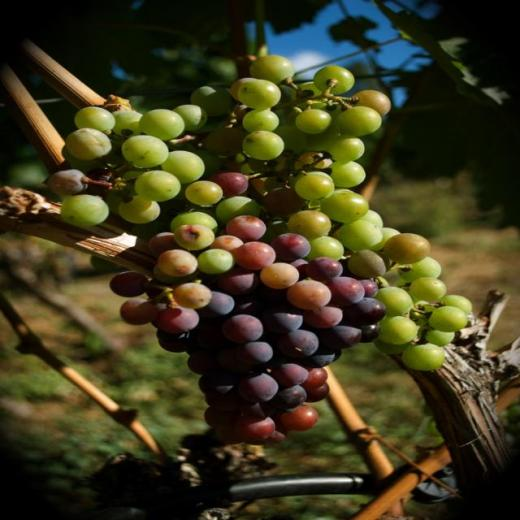Orange: (43, 55, 469, 445)
